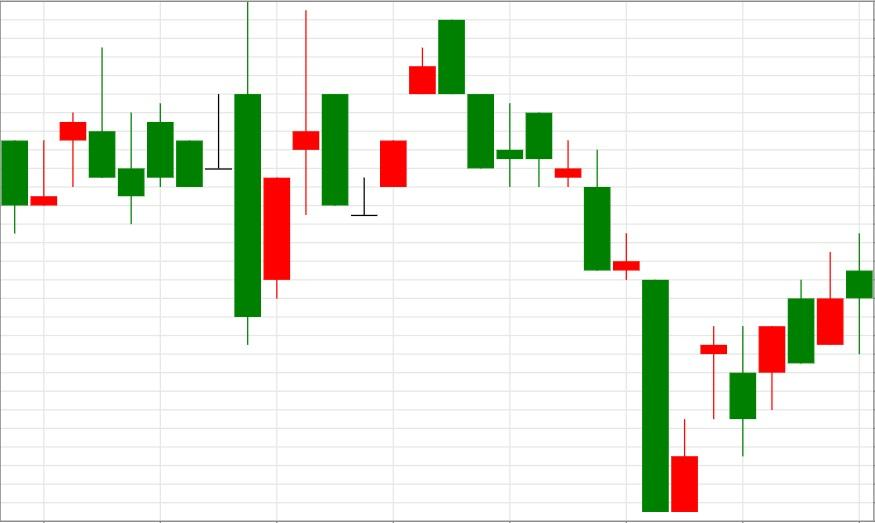hanging_man_fall: (0, 112, 88, 235)
